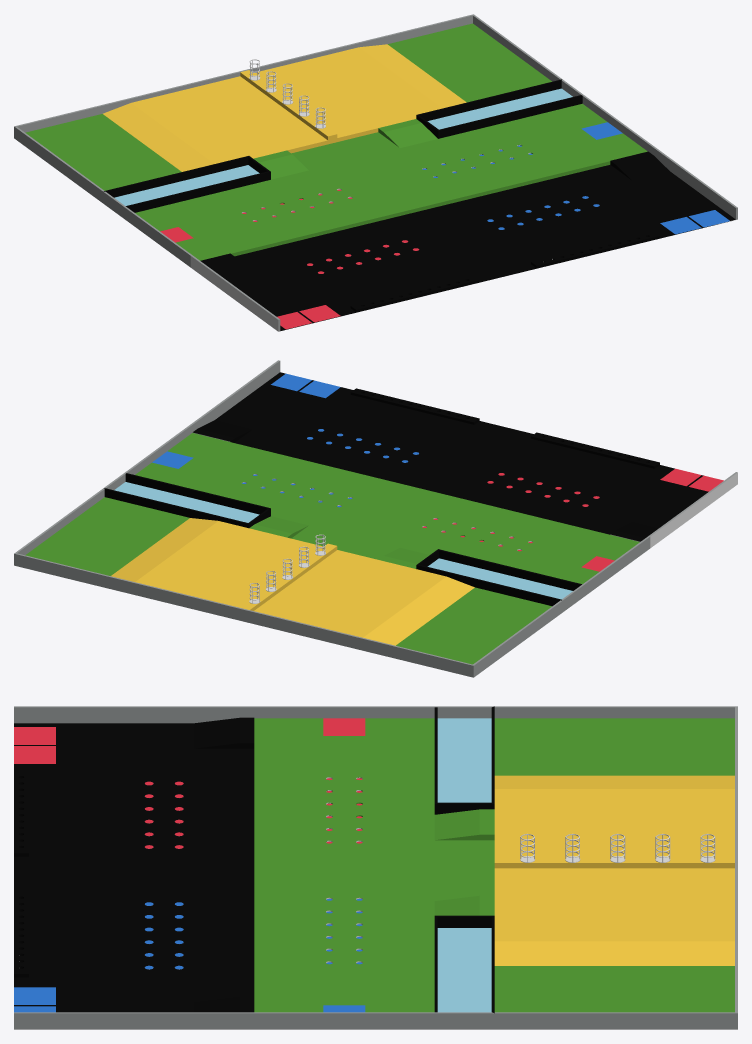
3 renders of one model, top to bottom at view 1: azimuth 30°, elevation 25°; view 2: azimuth 150°, elevation 25°; view 3: azimuth 270°, elevation 25°, orthographic. The views are drawn at different scales.
Parts seen in each view (by area): view 1: node0; view 2: node0; view 3: node0.
Boxes of the visible parts, left/top/right/bottom form: node0: left=14, top=14, right=737, bottom=331; node0: left=14, top=360, right=737, bottom=677; node0: left=14, top=706, right=737, bottom=1029.
Size of the model in its own units: 12.1 by 12.05 by 0.725.
